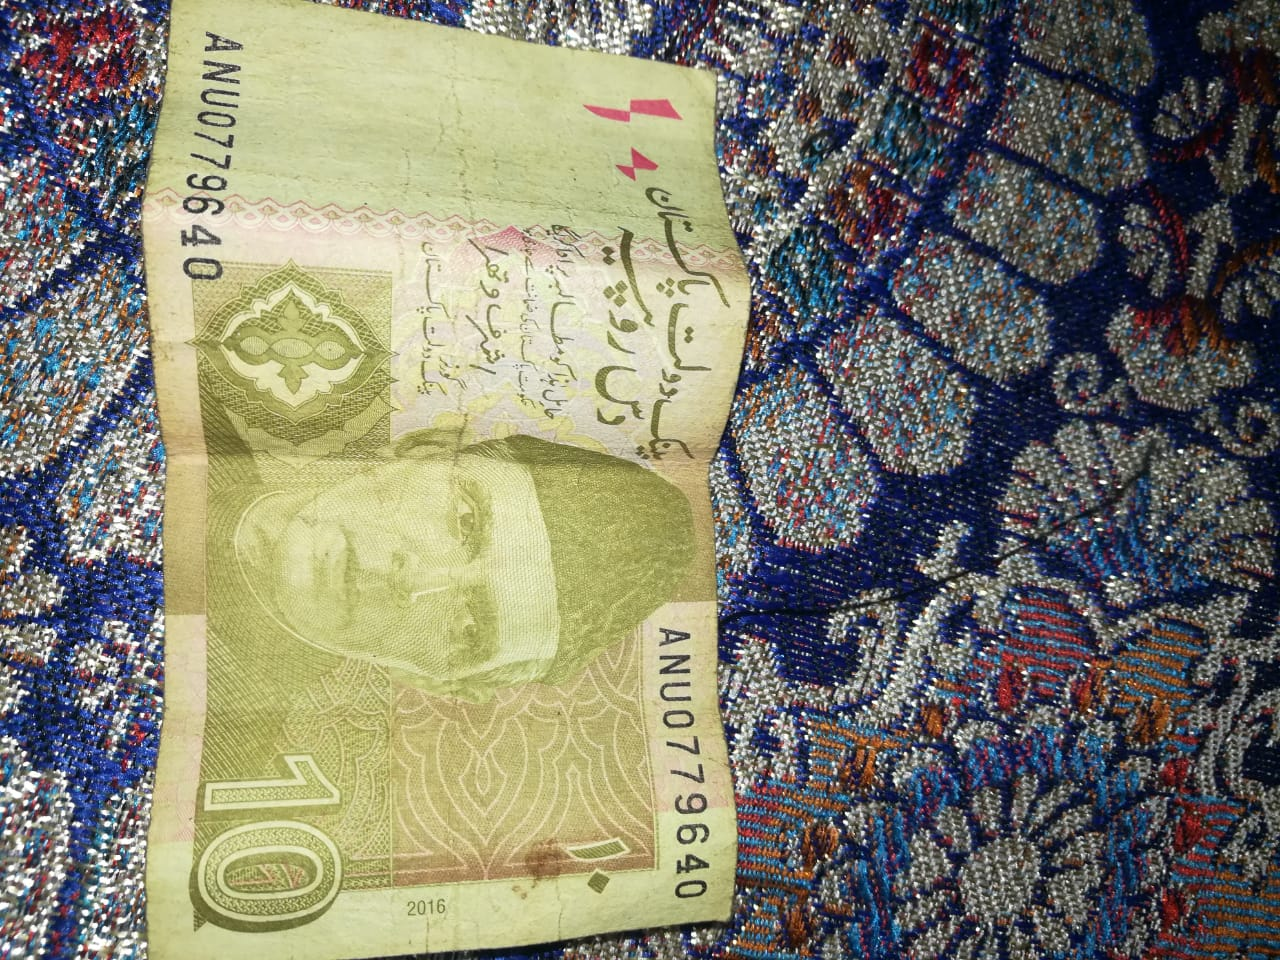10 rupee: (119, 16, 789, 948)
